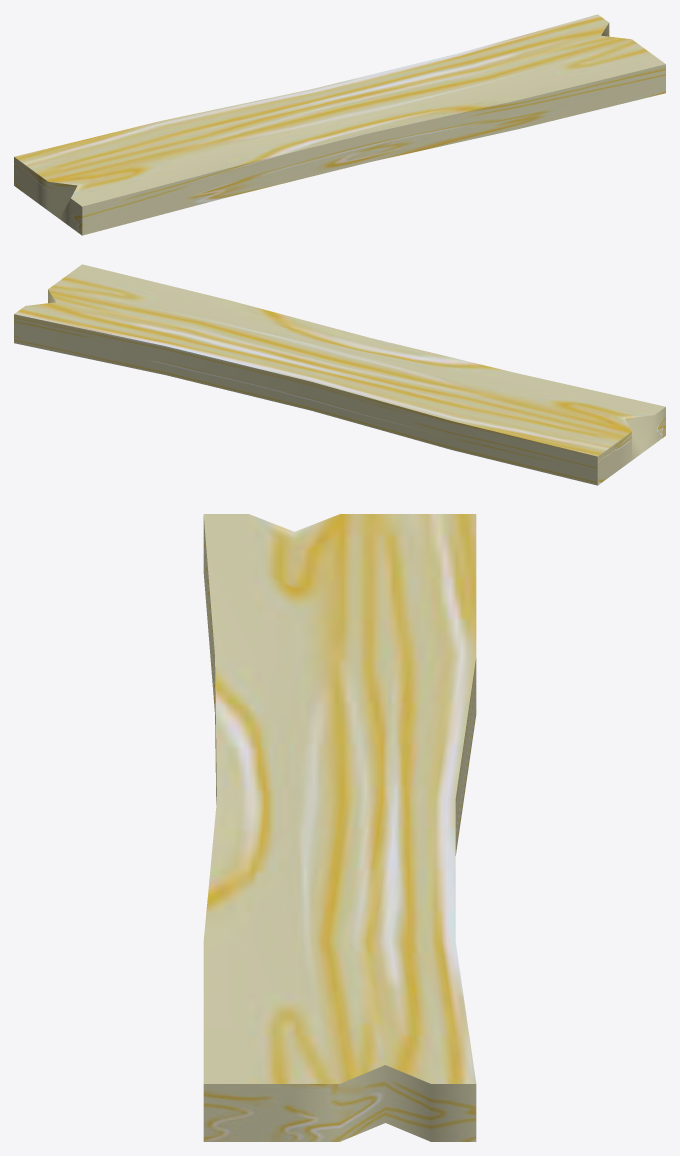
The model's file is piergdi.fbx.
3 renders of one model, top to bottom at view 1: azimuth 30°, elevation 25°; view 2: azimuth 150°, elevation 25°; view 3: azimuth 270°, elevation 25°, orthographic. The views are drawn at different scales.
Visible parts, largest first — view 1: pCube1; view 2: pCube1; view 3: pCube1.
Part boxes in pixels (x1,y1,x2,y2): pCube1: (14,14,665,235); pCube1: (14,264,665,485); pCube1: (203,514,476,1141).
Bounding box in the file's own units: 13.51 × 0.7106 × 2.73.
Materials: 1 (1 with a texture image).
